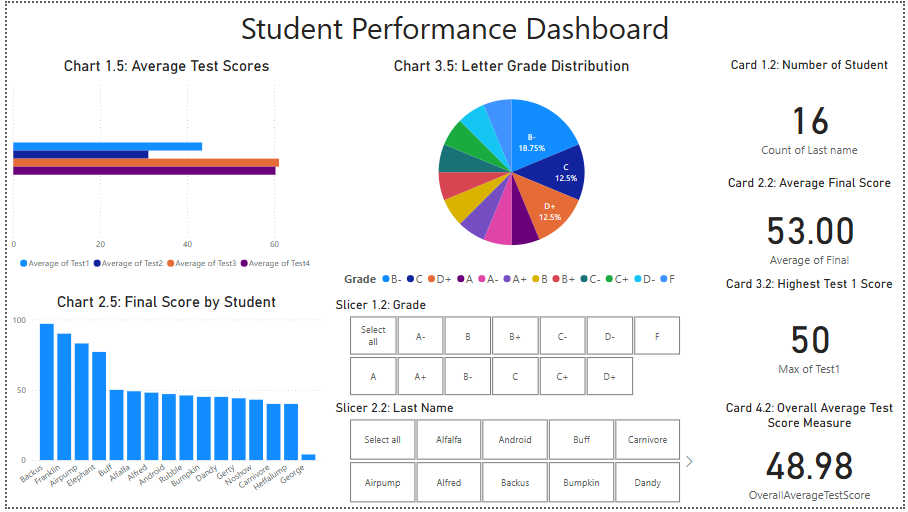

Layout of this report page (visuals, bound fields, positions):
{"tool":"powerbi","page":{"name":"Dashboard","canvas":[1280,720],"ordinal":7},"visuals":[{"type":"clusteredBarChart","title":"Chart 1.5: Average Test Scores","fields":{"Y":["Avg(grades.Test1)","Avg(grades.Test2)","Avg(grades.Test3)","Avg(grades.Test4)"]},"box":[0,77.1,455.7,312.9],"z":0},{"type":"clusteredColumnChart","title":"Chart 2.5: Final Score by Student","fields":{"Y":["Sum(grades.Final)"],"Category":["grades.Last name"]},"box":[0,414.3,455.7,305.7],"z":1000},{"type":"pieChart","title":"Chart 3.5: Letter Grade Distribution","fields":{"Category":["grades.Grade"],"Y":["CountNonNull(grades.Grade)"]},"box":[455.7,77.1,530,337.1],"z":2000},{"type":"slicer","title":"Slicer 1.2: Grade","fields":{"Values":["grades.Grade"]},"box":[464.3,420,521.4,147.1],"z":3000},{"type":"slicer","title":"Slicer 2.2: Last Name","fields":{"Values":["grades.Last name"]},"box":[464.3,567.1,521.4,152.9],"z":4000},{"type":"card","title":"Card 1.2: Number of Student","fields":{"Values":["CountNonNull(grades.Last name)"]},"box":[1012.9,77.1,267.1,168.6],"z":5000},{"type":"card","title":"Card 2.2: Average Final Score","fields":{"Values":["Avg(grades.Final)"]},"box":[1012.9,245.7,267.1,144.3],"z":6000},{"type":"card","title":"Card 3.2: Highest Test 1 Score","fields":{"Values":["Max(grades.Test1)"]},"box":[1012.9,390,267.1,167.1],"z":7000},{"type":"card","title":"Card 4.2: Overall Average Test Score Measure","fields":{"Values":["grades.OverallAverageTestScore"]},"box":[1012.9,567.1,267.1,152.9],"z":8000},{"type":"textbox","box":[0,0,1280,77.1],"z":9000}]}

Visuals, with their boxes in screenshot pixels (x1, y1, x2, y2), scaled from the page's 1280x720 canvas onto the 908x512 screenshot:
"Chart 1.5: Average Test Scores" clusteredBarChart: <box>0,55,323,277</box>
"Chart 2.5: Final Score by Student" clusteredColumnChart: <box>0,295,323,511</box>
"Chart 3.5: Letter Grade Distribution" pieChart: <box>323,55,699,295</box>
"Slicer 1.2: Grade" slicer: <box>329,299,699,403</box>
"Slicer 2.2: Last Name" slicer: <box>329,403,699,511</box>
"Card 1.2: Number of Student" card: <box>719,55,907,175</box>
"Card 2.2: Average Final Score" card: <box>719,175,907,277</box>
"Card 3.2: Highest Test 1 Score" card: <box>719,277,907,396</box>
"Card 4.2: Overall Average Test Score Measure" card: <box>719,403,907,511</box>
textbox: <box>0,0,907,55</box>
